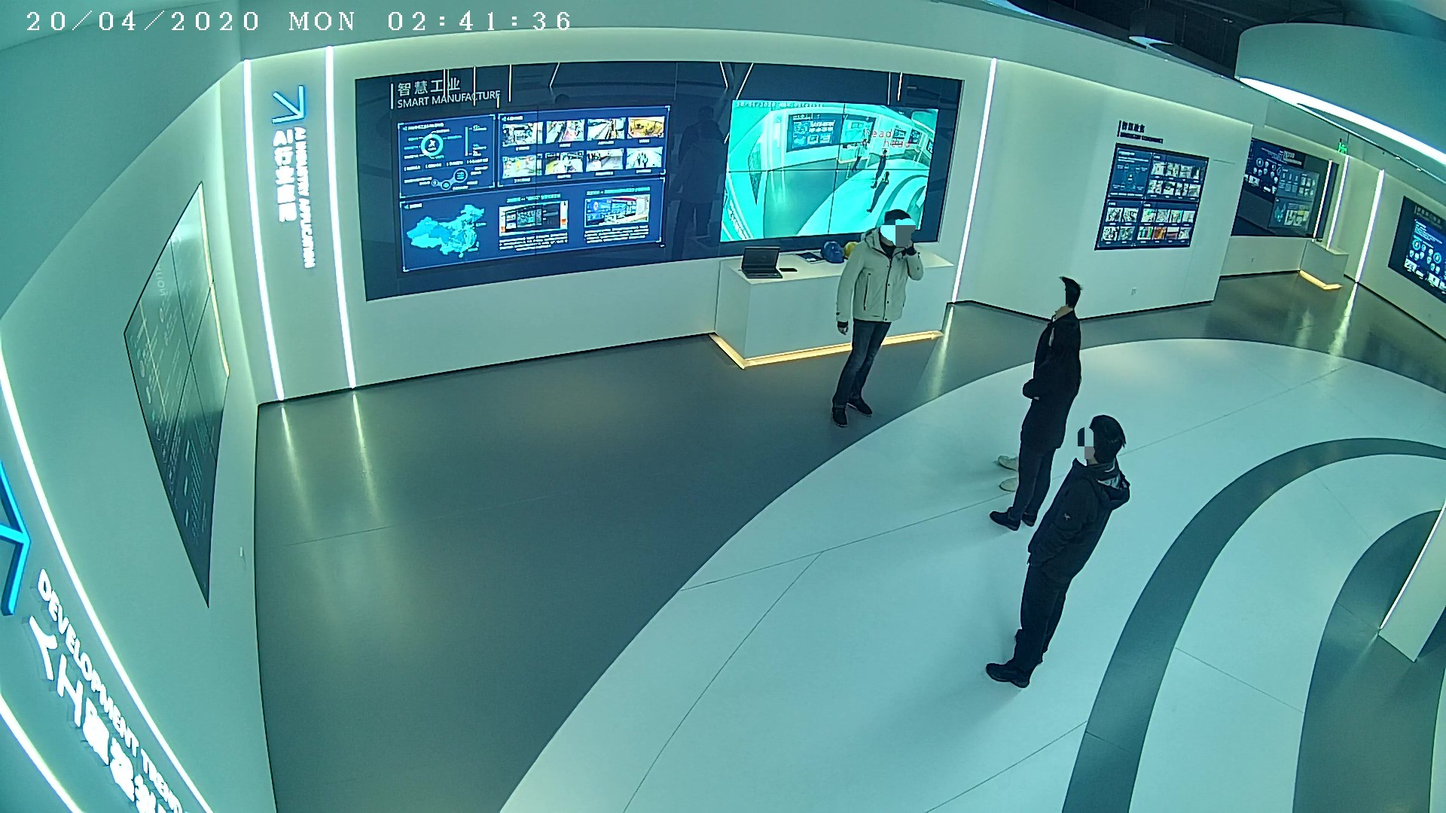head: (1078, 411, 1128, 463), (1045, 274, 1084, 312), (1045, 319, 1081, 356), (881, 208, 914, 248)
person: (981, 409, 1133, 692), (827, 206, 926, 431), (991, 271, 1085, 493), (987, 318, 1084, 531)
